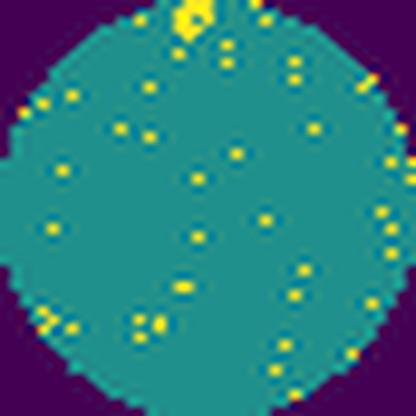Loc: (172, 0, 216, 44)
